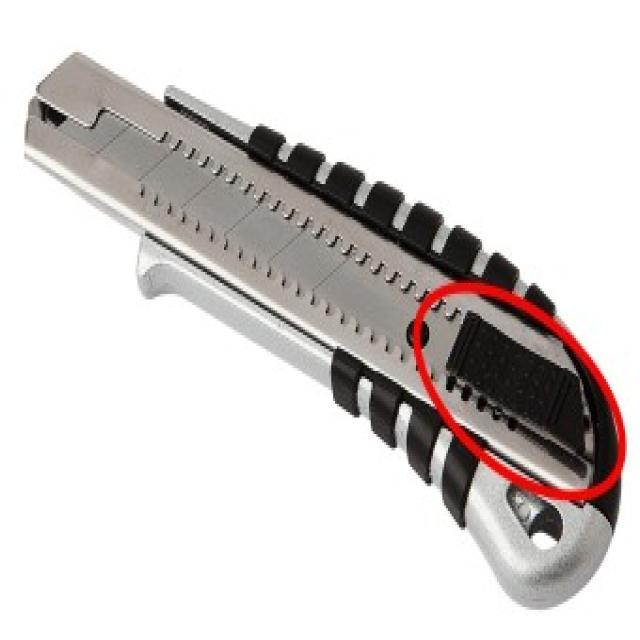cutter: (19, 49, 637, 626)
